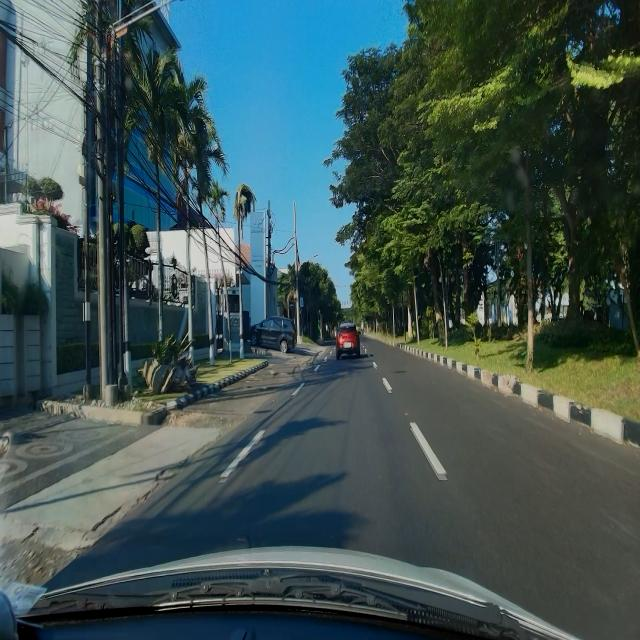car: (336, 323, 361, 361)
